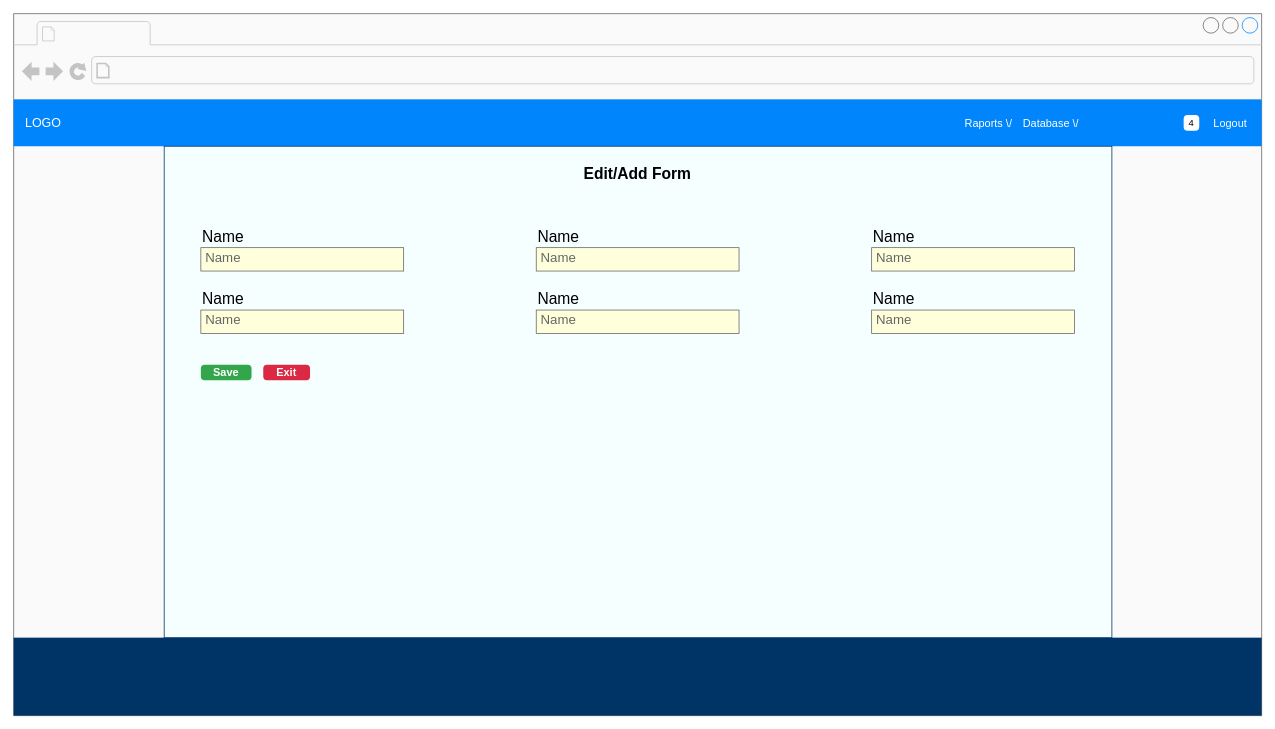
This 1275x729 diagram has some shape labels left out. Each missing label, with the centre of its shape:
https://www.draw.io: point (212, 70)
Page 1: point (103, 32)
Training Requests: point (1144, 122)
